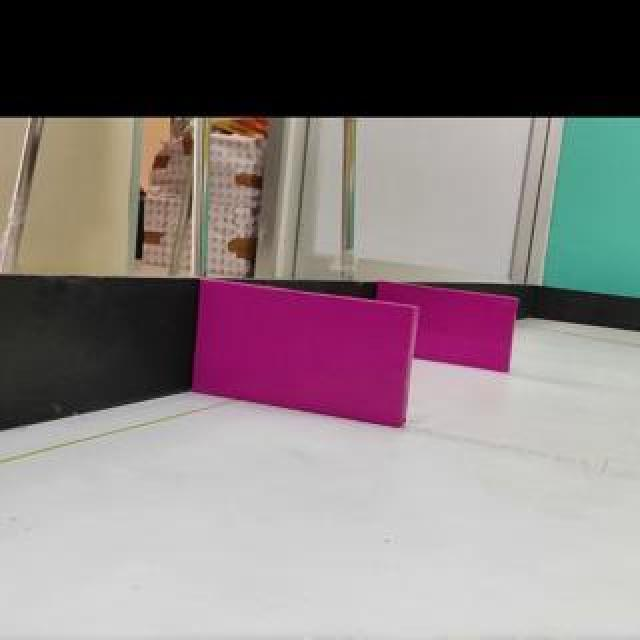xparking: (196, 279, 416, 427), (418, 286, 516, 371)
